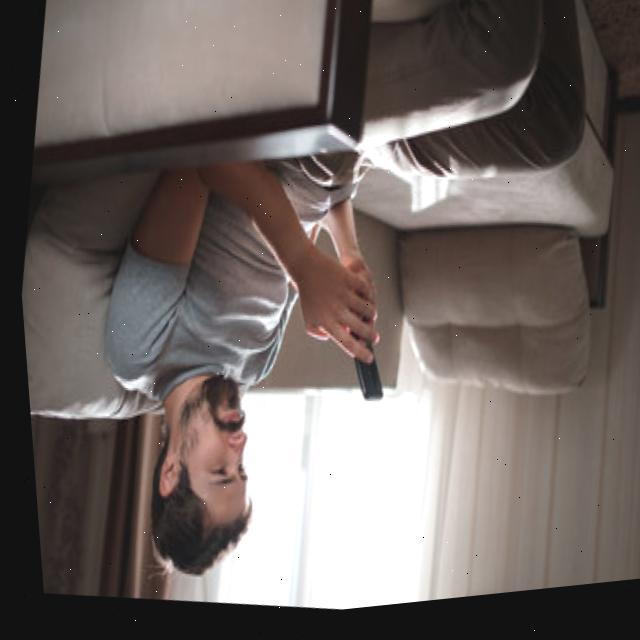smartphone-person: (25, 0, 640, 638)
